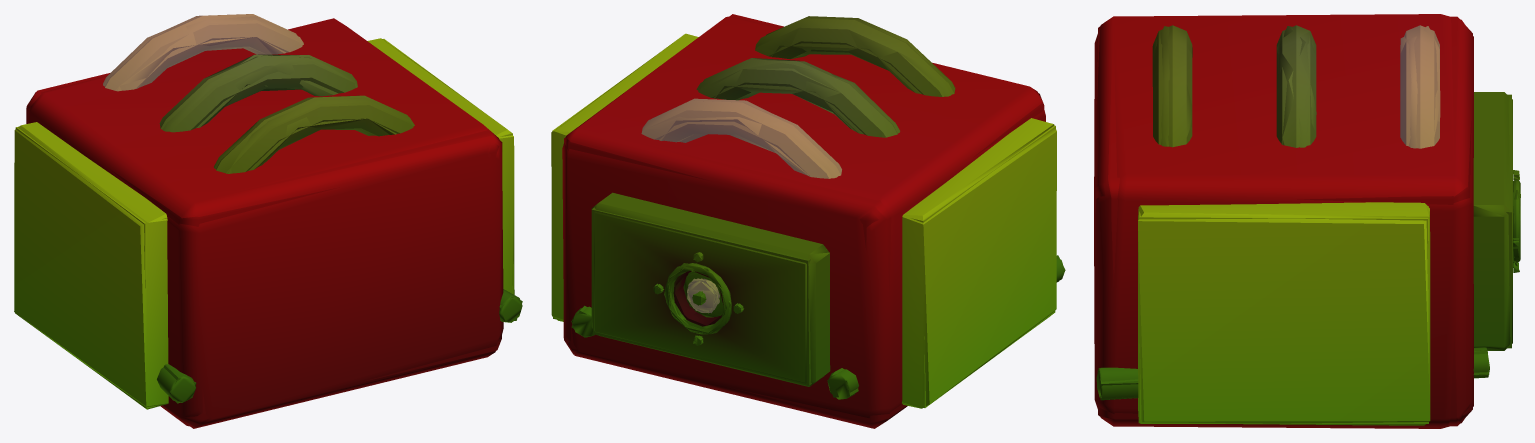
File: RCLModule_gravitas_breaker_quantum_hyperdrive_alloy_sponsons_LODs.fbx
The picture shows the model from 3 angles, left to right: view 1: azimuth 30°, elevation 25°; view 2: azimuth 150°, elevation 25°; view 3: azimuth 270°, elevation 25°; orthographic projection. The views are drawn at different scales.
Visible parts, largest first — view 1: LOD1_RCLModule_gravitas_breaker_quantum_hyperdrive_alloy_spo (×3), LOD2_RCLModule_gravitas_breaker_quantum_hyperdrive_alloy_spo (×3); view 2: LOD1_RCLModule_gravitas_breaker_quantum_hyperdrive_alloy_spo (×3), LOD2_RCLModule_gravitas_breaker_quantum_hyperdrive_alloy_spo (×3); view 3: LOD1_RCLModule_gravitas_breaker_quantum_hyperdrive_alloy_spo (×3), LOD2_RCLModule_gravitas_breaker_quantum_hyperdrive_alloy_spo (×3).
Boxes of the visible parts, x1,y1,x2,y2 form: LOD1_RCLModule_gravitas_breaker_quantum_hyperdrive_alloy_spo (×3): (14,14,522,427); LOD2_RCLModule_gravitas_breaker_quantum_hyperdrive_alloy_spo (×3): (15,16,522,428); LOD1_RCLModule_gravitas_breaker_quantum_hyperdrive_alloy_spo (×3): (551,16,1064,428); LOD2_RCLModule_gravitas_breaker_quantum_hyperdrive_alloy_spo (×3): (552,14,1065,423); LOD1_RCLModule_gravitas_breaker_quantum_hyperdrive_alloy_spo (×3): (1094,14,1520,428); LOD2_RCLModule_gravitas_breaker_quantum_hyperdrive_alloy_spo (×3): (1095,16,1520,426).
Size of the model in its own units: 77.5 by 54.89 by 68.93.
